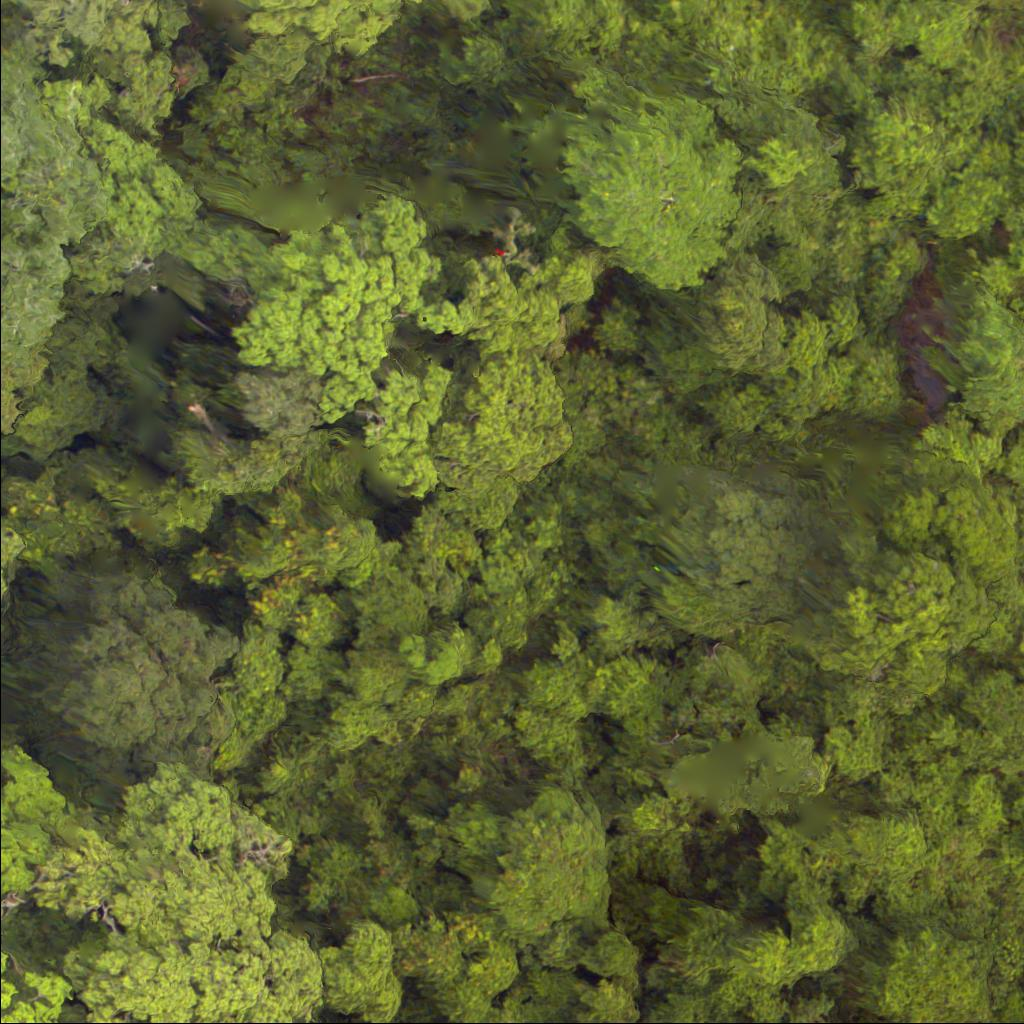crown: (0, 49, 182, 450), (38, 779, 337, 1023), (575, 102, 745, 284), (222, 0, 436, 56)
